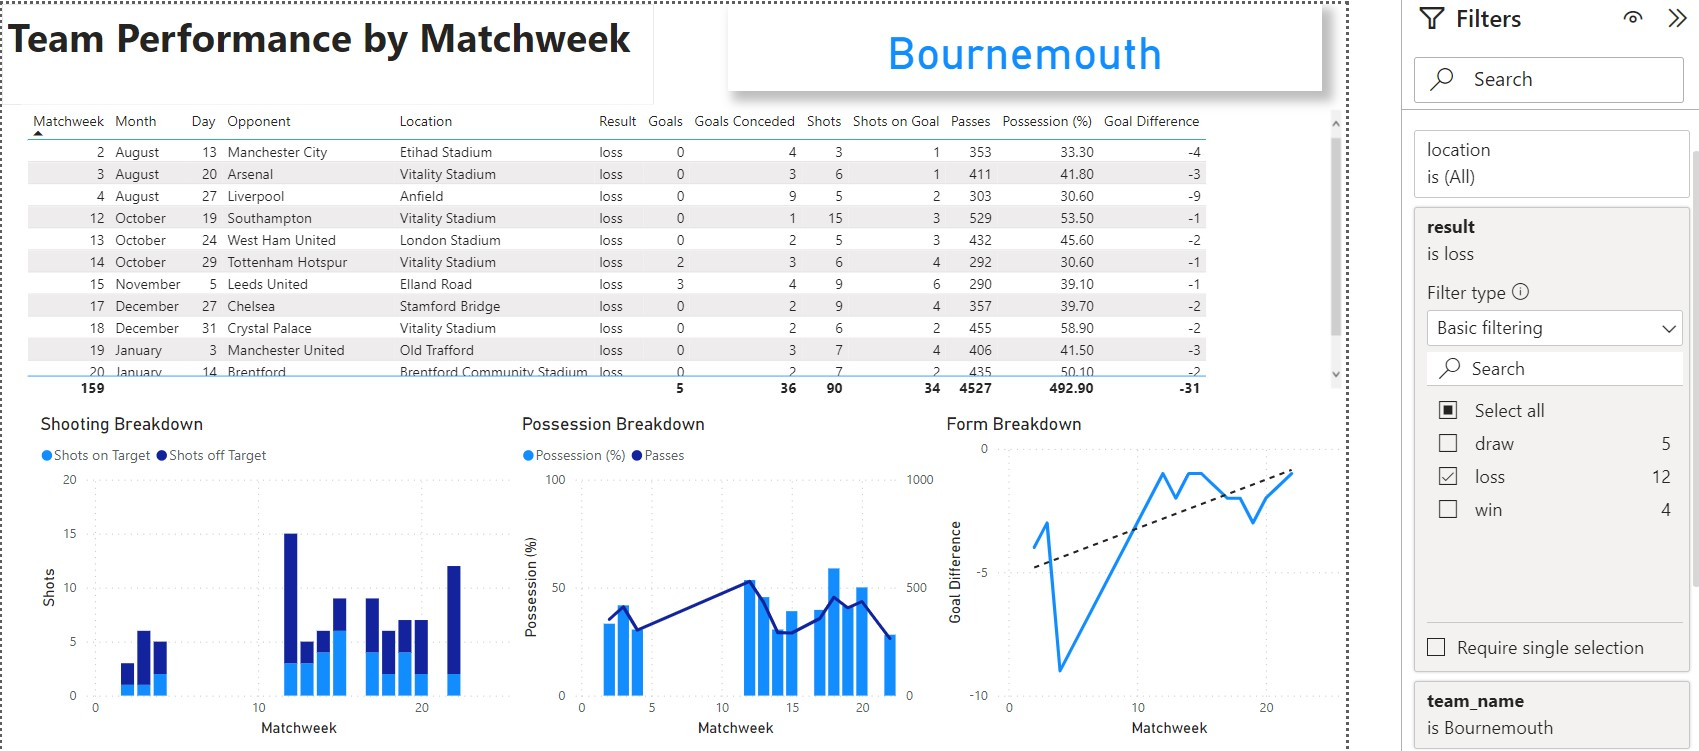

The page's visual inventory and layout, read from the dashboard file:
{"tool":"powerbi","page":{"name":"Page 1","canvas":[1280,720],"ordinal":0},"visuals":[{"type":"columnChart","title":"Shooting Breakdown","fields":{"Category":["epl_2022_2023 team_performance.matchweek"],"Y":["Sum(epl_2022_2023 team_performance.shots_on_target)","epl_2022_2023 team_performance.shots minus shots_on_target"]},"box":[31.4,390,458.6,311.4],"z":0},{"type":"textbox","box":[0,0,621.4,95.7],"z":1},{"type":"lineStackedColumnComboChart","title":"Possession Breakdown","fields":{"Category":["epl_2022_2023 team_performance.matchweek"],"Y":["Sum(epl_2022_2023 team_performance.possession)"],"Y2":["Sum(epl_2022_2023 team_performance.passes)"]},"box":[490,390,422.9,311.4],"z":2},{"type":"tableEx","fields":{"Values":["Sum(epl_2022_2023 team_performance.matchweek)","epl_2022_2023 team_performance.date_played.Variation.Date Hierarchy.Month","epl_2022_2023 team_performance.date_played.Variation.Date Hierarchy.Day","epl_2022_2023 team_performance.opponent_name","epl_2022_2023 team_performance.location","epl_2022_2023 team_performance.result","Sum(epl_2022_2023 team_performance.score)","Sum(epl_2022_2023 team_performance.opponent_score)","Sum(epl_2022_2023 team_performance.shots)","Sum(epl_2022_2023 team_performance.shots_on_target)","Sum(epl_2022_2023 team_performance.passes)","Sum(epl_2022_2023 team_performance.possession)"]},"box":[18.6,95.7,1261.4,284.3],"z":3},{"type":"lineChart","title":"Form Breakdown","fields":{"Category":["epl_2022_2023 team_performance.matchweek"],"Y":["epl_2022_2023 team_performance.score minus opponent_score"]},"box":[894.3,390,385.7,311.4],"z":4},{"type":"card","fields":{"Values":["epl_2022_2023 team_performance.SelectedTeam"]},"box":[691.4,0,565.7,82.9],"z":5}]}

Visuals, with their boxes on the page's 1280x720 design canvas (x1, y1, x2, y2). These are canvas units, not pixel positions in the 1699x751 screenshot, which may show the page scaled, cropped or inside an application window:
"Shooting Breakdown" columnChart: 31 390 490 701
textbox: 0 0 621 96
"Possession Breakdown" lineStackedColumnComboChart: 490 390 913 701
tableEx - Sum(epl_2022_2023 team_performance.matchweek) x epl_2022_2023 team_performance.date_played.Variation.Date Hierarchy.Month: 19 96 1280 380
"Form Breakdown" lineChart: 894 390 1280 701
card - epl_2022_2023 team_performance.SelectedTeam: 691 0 1257 83
